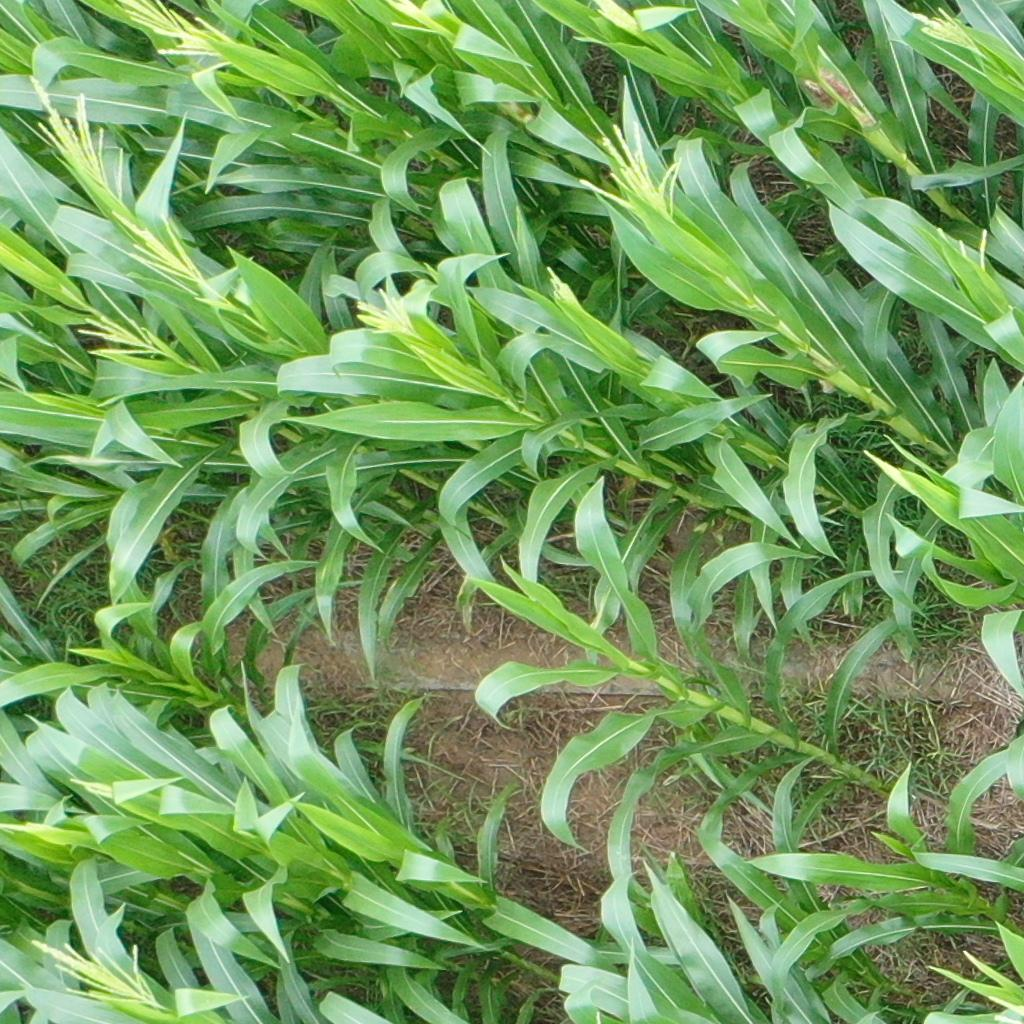Tassel: (108, 208, 246, 316), (21, 74, 129, 205), (571, 118, 687, 233), (29, 927, 170, 1009), (116, 1, 244, 79), (77, 277, 172, 361), (353, 287, 422, 341), (919, 7, 990, 57), (863, 448, 925, 504), (936, 215, 988, 272), (382, 1, 454, 36), (592, 1, 641, 35), (67, 773, 123, 800), (543, 266, 578, 305), (986, 989, 1024, 1023), (1, 813, 51, 833)
